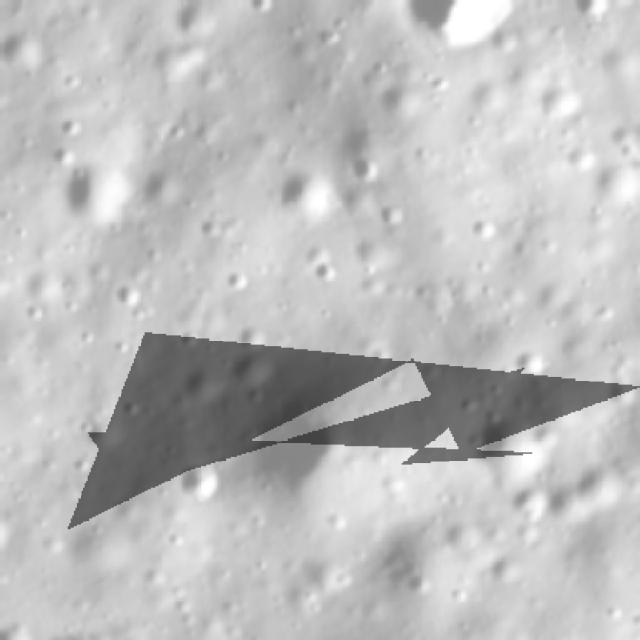crater: (242, 384, 356, 496), (59, 144, 147, 224), (393, 0, 524, 45), (470, 422, 553, 483), (269, 166, 342, 223), (0, 26, 51, 77), (172, 450, 220, 504), (495, 345, 553, 377), (230, 319, 272, 359), (471, 208, 506, 244), (0, 495, 17, 560), (110, 284, 148, 310), (65, 449, 98, 478), (376, 202, 410, 229), (404, 571, 434, 600), (312, 256, 338, 284), (170, 330, 199, 355), (110, 336, 136, 358), (225, 268, 247, 292), (28, 299, 49, 323), (634, 250, 640, 293)
